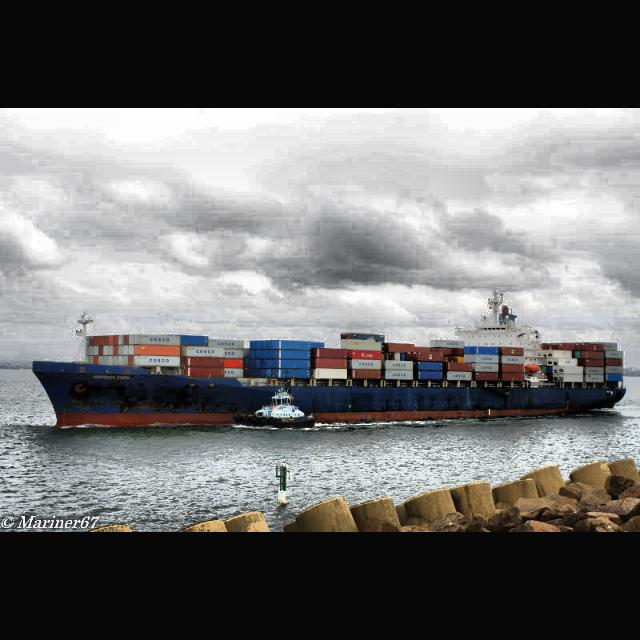buoy: (272, 452, 294, 508)
container: (30, 288, 628, 432)
tug: (232, 384, 318, 430)
